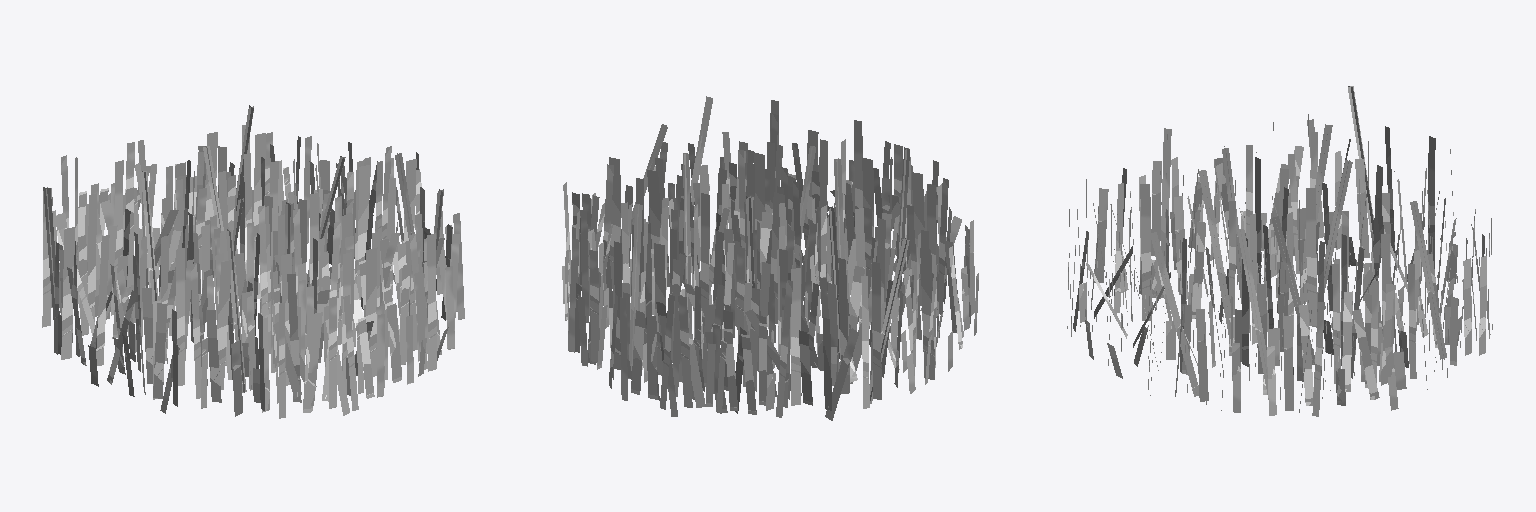
3 renders of one model, left to right at view 1: azimuth 30°, elevation 25°; view 2: azimuth 150°, elevation 25°; view 3: azimuth 270°, elevation 25°, orthographic.
Parts seen in each view (by area): view 1: Trava_Kolosok; view 2: Trava_Kolosok; view 3: Trava_Kolosok.
Boxes of the visible parts, box(x1,y1,x2,y2) form: Trava_Kolosok: box(42, 105, 464, 418); Trava_Kolosok: box(562, 96, 978, 420); Trava_Kolosok: box(1067, 86, 1492, 416).
Size of the model in its own units: 780 by 361 by 783.
1 materials, 1 textured.